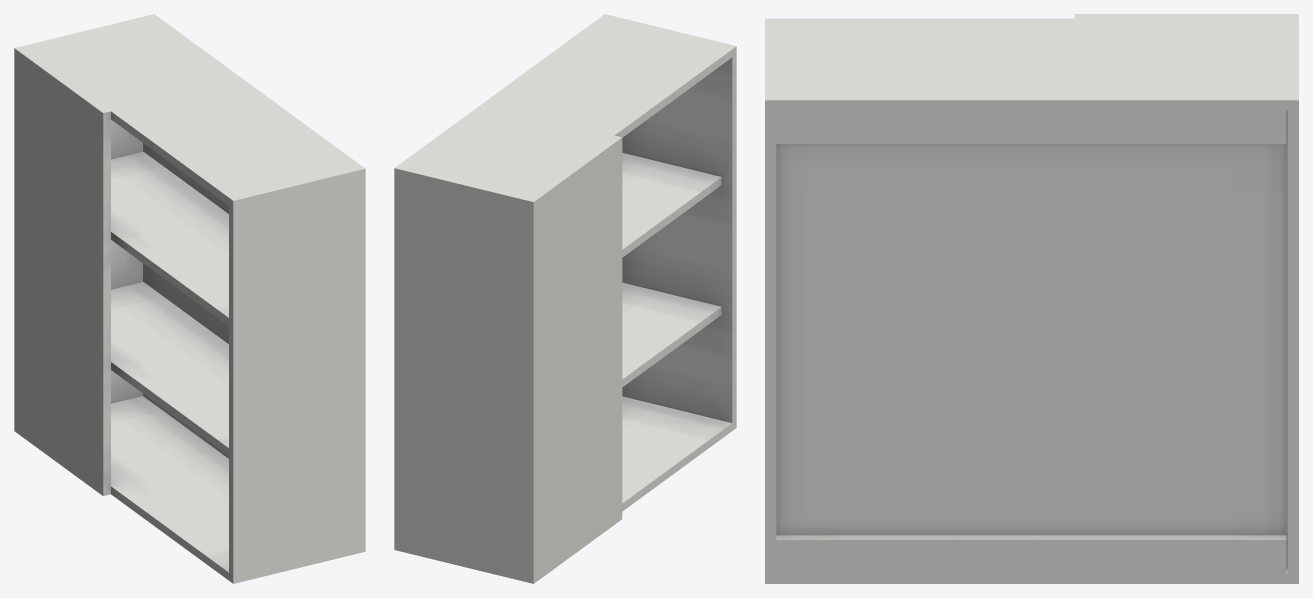
Rendered from wall-blind-corner-doors-off.glb.
3 views of the same model, side by side, from view 1: azimuth 30°, elevation 25°; view 2: azimuth 150°, elevation 25°; view 3: azimuth 270°, elevation 25° (orthographic). The views are drawn at different scales.
Parts seen in each view (by area): view 1: part_0; view 2: part_0; view 3: part_0.
Boxes of the visible parts, left/top/right/bottom form: part_0: left=14, top=14, right=365, bottom=583; part_0: left=394, top=14, right=736, bottom=583; part_0: left=765, top=14, right=1298, bottom=583.
Bounding box in the file's own units: 0.3495 × 0.9144 × 0.9144.
1 material, 1 textured.
